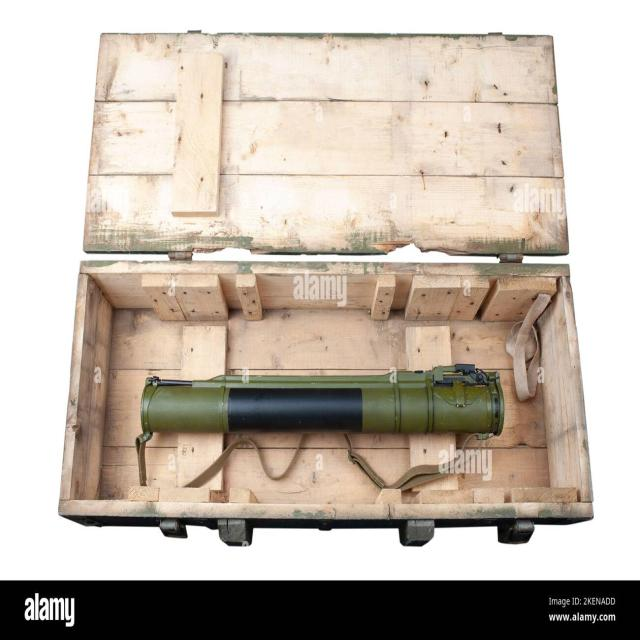bazooka: (134, 352, 517, 451)
